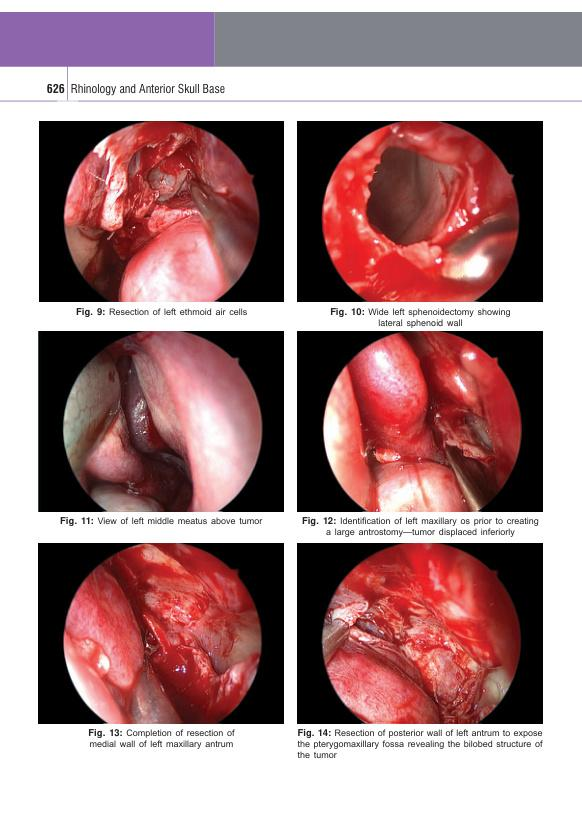caption: (296, 727, 544, 760), (301, 515, 540, 538), (329, 306, 512, 329), (87, 727, 237, 750), (59, 516, 264, 528), (75, 306, 248, 318)
header: (69, 81, 226, 97)
image: (37, 329, 285, 513), (296, 542, 544, 725), (38, 120, 285, 303), (296, 329, 543, 512), (38, 542, 284, 725), (296, 120, 543, 302)
